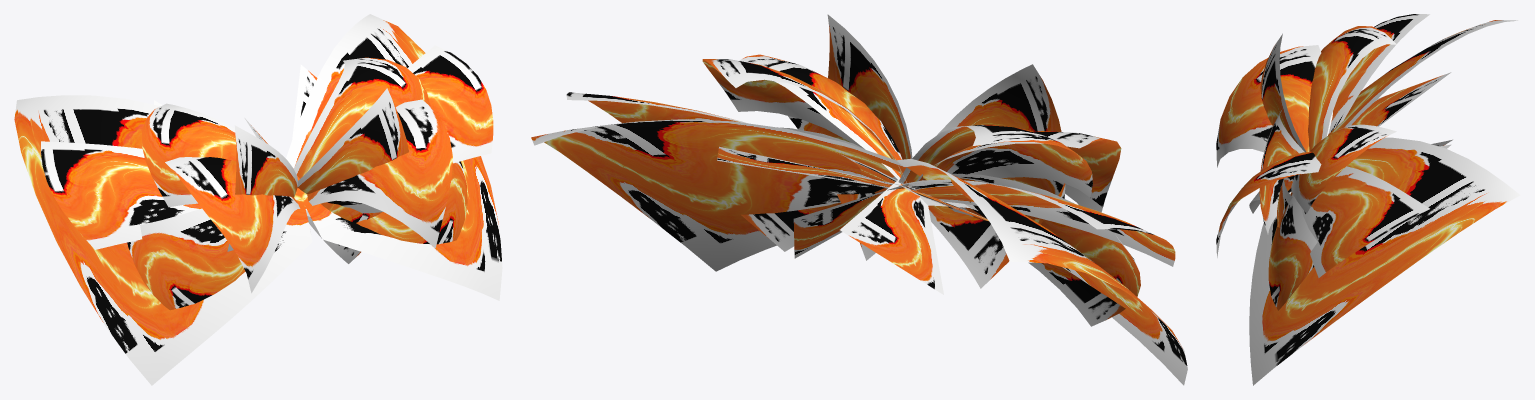
File: fx_wing_d.FBX
3 renders of one model, left to right at view 1: azimuth 30°, elevation 25°; view 2: azimuth 150°, elevation 25°; view 3: azimuth 270°, elevation 25°, orthographic. The views are drawn at different scales.
Parts seen in each view (by area): view 1: Plane14, Plane09, Plane15, Plane02, Plane13, Plane12, Plane04, Plane03, Plane18, Plane01, Plane11, Plane06 (+2 smaller); view 2: Plane09, Plane14, Plane18, Plane16, Plane13, Plane15, Plane04, Plane11, Plane01, Plane02, Plane10, Plane12 (+5 smaller); view 3: Plane09, Plane03, Plane12, Plane18, Plane06, Plane04, Plane15, Plane14, Plane01, Plane02, Plane11, Plane17 (+1 smaller).
Boxes of the visible parts, bbox=[...] form: Plane14: bbox=[14, 95, 312, 385]; Plane09: bbox=[286, 14, 502, 300]; Plane15: bbox=[41, 141, 201, 249]; Plane02: bbox=[307, 99, 452, 248]; Plane13: bbox=[127, 208, 245, 310]; Plane12: bbox=[165, 157, 300, 293]; Plane04: bbox=[294, 57, 430, 178]; Plane03: bbox=[305, 45, 493, 210]; Plane18: bbox=[142, 103, 236, 207]; Plane01: bbox=[297, 88, 408, 213]; Plane11: bbox=[227, 125, 297, 251]; Plane06: bbox=[306, 161, 467, 244]; Plane09: bbox=[531, 119, 905, 271]; Plane14: bbox=[896, 158, 1187, 385]; Plane18: bbox=[898, 124, 1092, 197]; Plane16: bbox=[840, 179, 943, 294]; Plane13: bbox=[918, 173, 1140, 326]; Plane15: bbox=[902, 179, 1175, 266]; Plane04: bbox=[702, 59, 909, 187]; Plane11: bbox=[919, 64, 1065, 207]; Plane01: bbox=[827, 14, 912, 188]; Plane02: bbox=[739, 54, 902, 179]; Plane10: bbox=[928, 177, 1063, 288]; Plane12: bbox=[916, 131, 1121, 212]; Plane09: bbox=[1249, 137, 1520, 385]; Plane03: bbox=[1301, 166, 1429, 277]; Plane12: bbox=[1216, 45, 1332, 167]; Plane18: bbox=[1308, 26, 1396, 151]; Plane06: bbox=[1268, 192, 1317, 310]; Plane04: bbox=[1291, 124, 1396, 213]; Plane15: bbox=[1328, 14, 1429, 133]; Plane14: bbox=[1249, 20, 1517, 213]; Plane01: bbox=[1259, 110, 1304, 234]; Plane02: bbox=[1216, 151, 1321, 257]; Plane11: bbox=[1260, 33, 1306, 152]; Plane17: bbox=[1351, 72, 1451, 126].
Bounding box in the file's own units: 2180 × 1088 × 1310.
